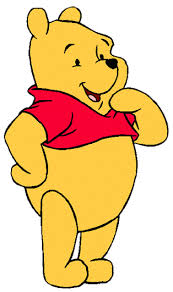Winnie: (17, 1, 161, 153)
